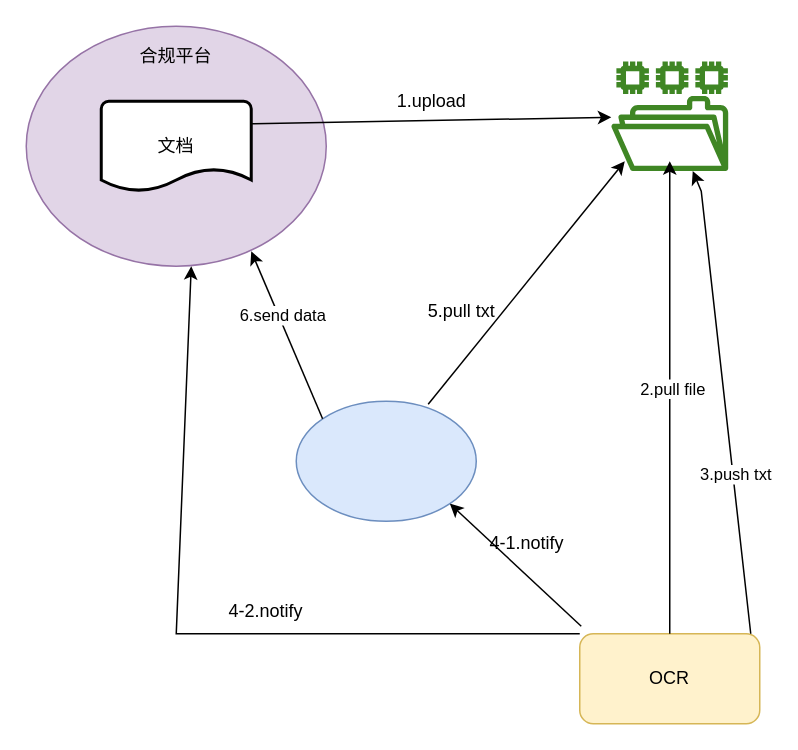
This 798x750 diagram has some shape labels left out. The shapes that lost their labels are listed below. From the top down, each one's centre as x and y in pixels, then its label:
At point (669, 115): "GTP".
At point (385, 460): "NLP".
